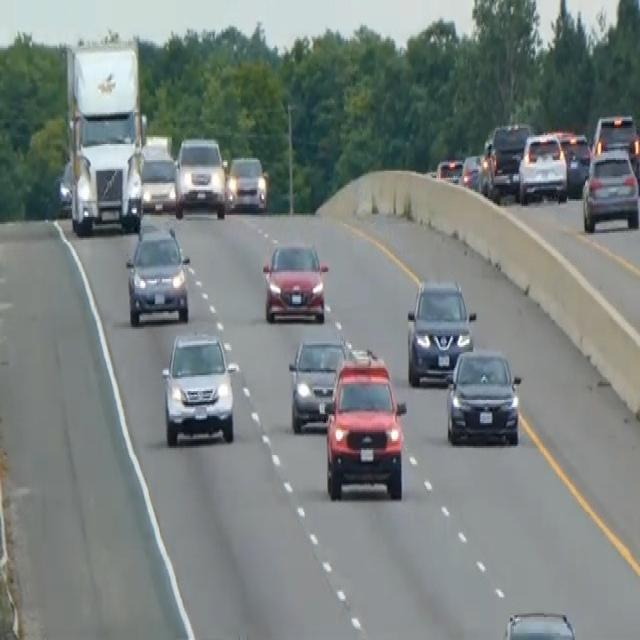car: (160, 329, 237, 446), (405, 276, 476, 386), (445, 345, 522, 446), (124, 222, 190, 326), (287, 334, 354, 432), (261, 238, 329, 324), (581, 146, 639, 233), (174, 133, 226, 217), (480, 121, 531, 199), (517, 130, 568, 204), (591, 110, 639, 178), (551, 128, 591, 196), (139, 146, 179, 213), (225, 153, 268, 211), (500, 608, 577, 638), (56, 157, 73, 215), (459, 151, 483, 190), (435, 155, 463, 183)
jeep: (321, 352, 408, 501)
lorry: (62, 34, 145, 235)
